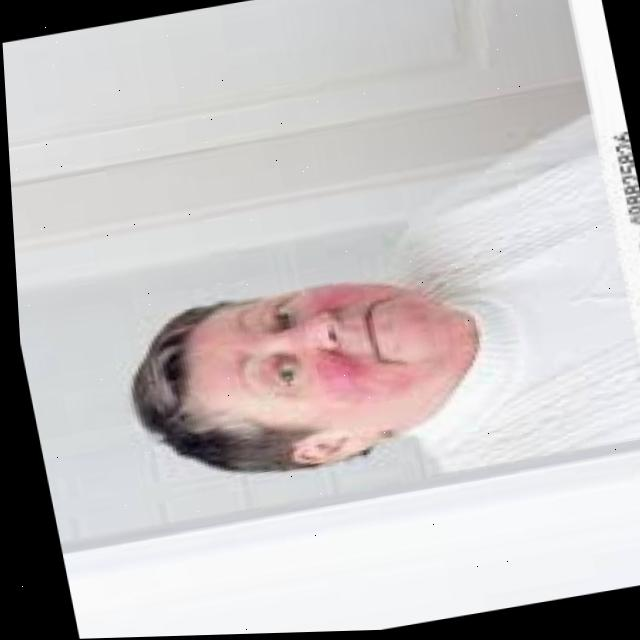Rosacea: (308, 358, 389, 404), (309, 280, 356, 303)
